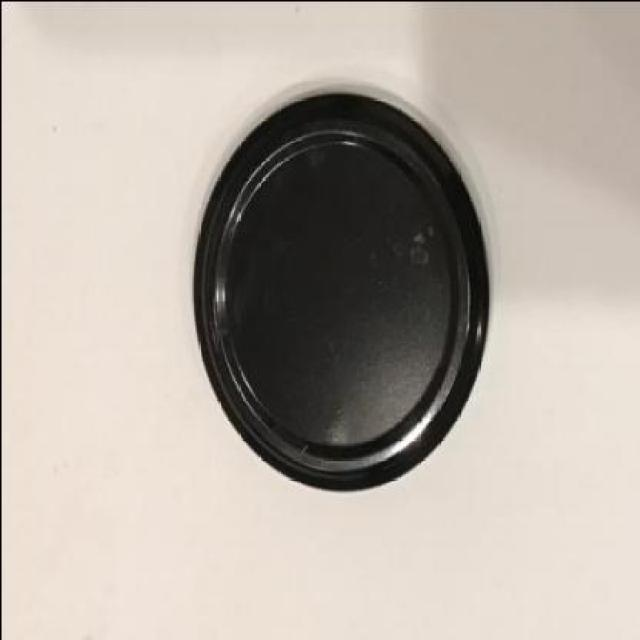METAL: (188, 92, 488, 493)
